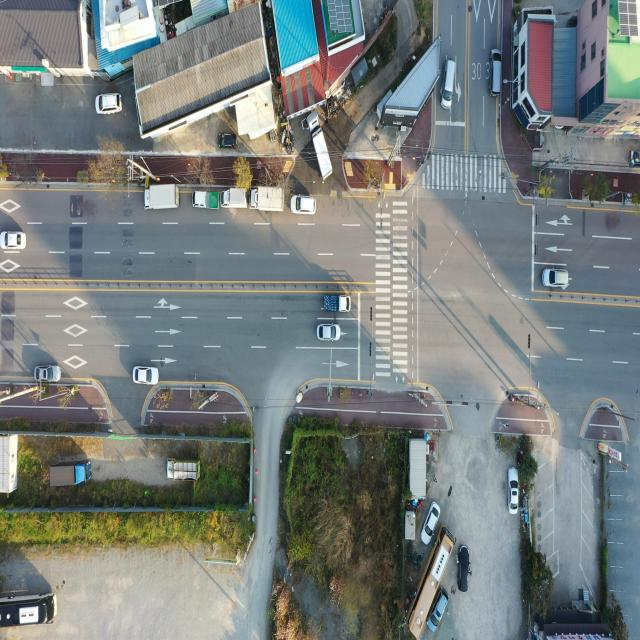car: (420, 497, 441, 545), (427, 588, 448, 634), (442, 59, 458, 113), (488, 47, 503, 100), (95, 92, 123, 115), (456, 544, 470, 590), (292, 195, 317, 216), (544, 269, 570, 289), (0, 231, 25, 251), (134, 365, 159, 384), (35, 364, 61, 381), (316, 323, 339, 341), (510, 469, 519, 513), (217, 133, 236, 150)
large_bus: (407, 526, 457, 637), (0, 590, 56, 630)
medium_truck: (305, 107, 335, 180), (50, 461, 94, 492), (145, 183, 182, 212), (250, 186, 284, 212)
small_truck: (166, 458, 203, 480), (222, 186, 248, 210), (193, 188, 219, 209), (321, 296, 351, 314)
